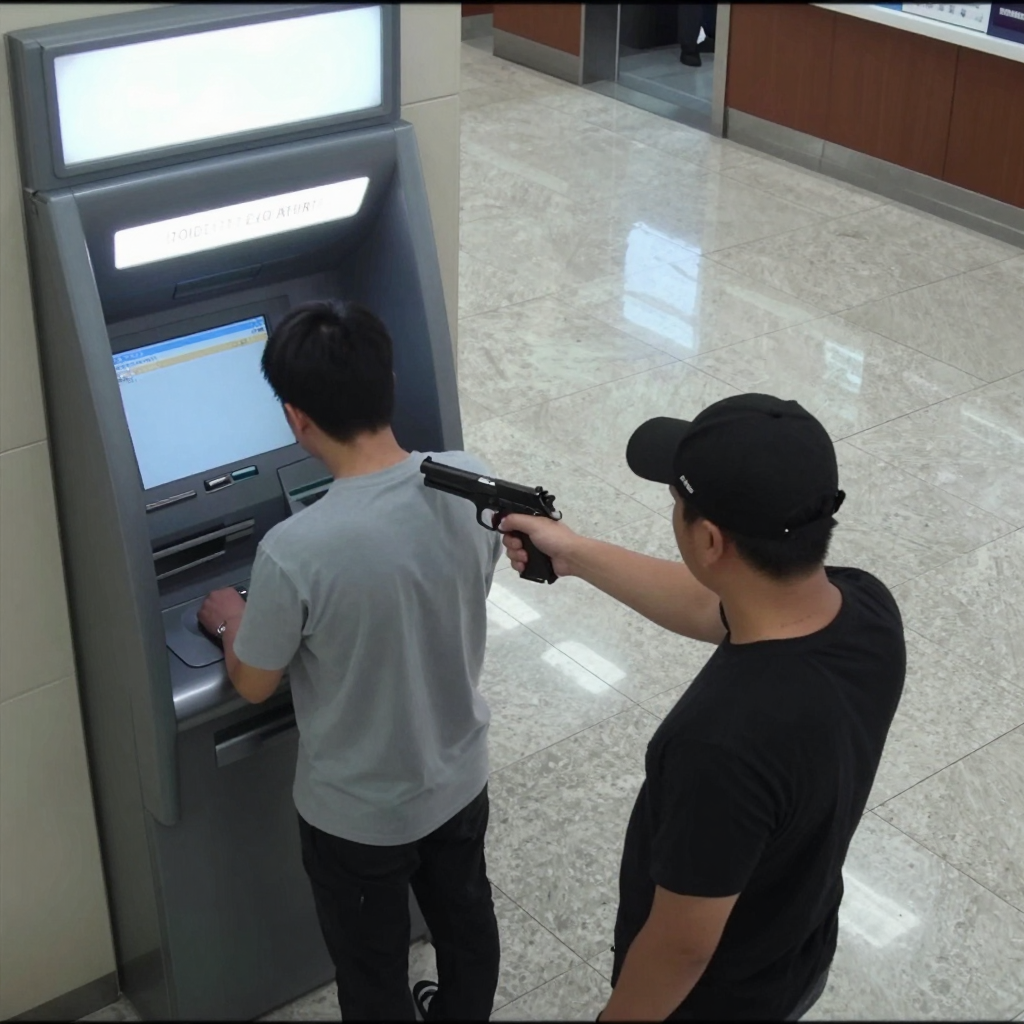Robbery: (495, 392, 907, 1023), (194, 298, 506, 1020)
Shooting: (419, 455, 563, 583)
